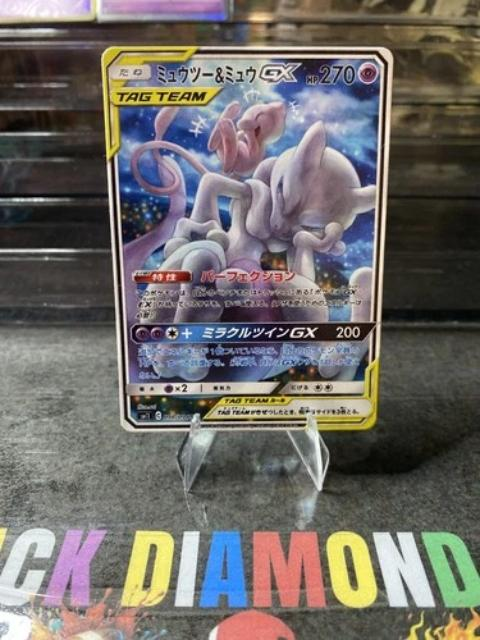Card: (97, 41, 397, 436)
Name: (151, 61, 309, 87)
